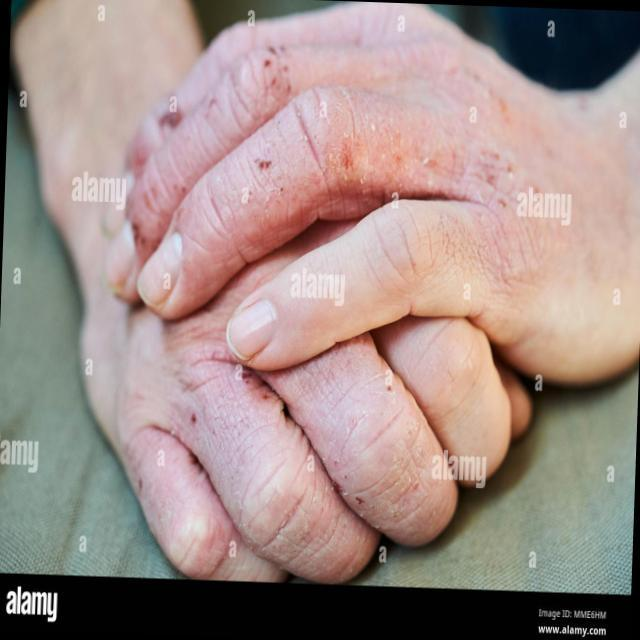Eczema: (122, 39, 520, 272), (107, 357, 376, 550)
